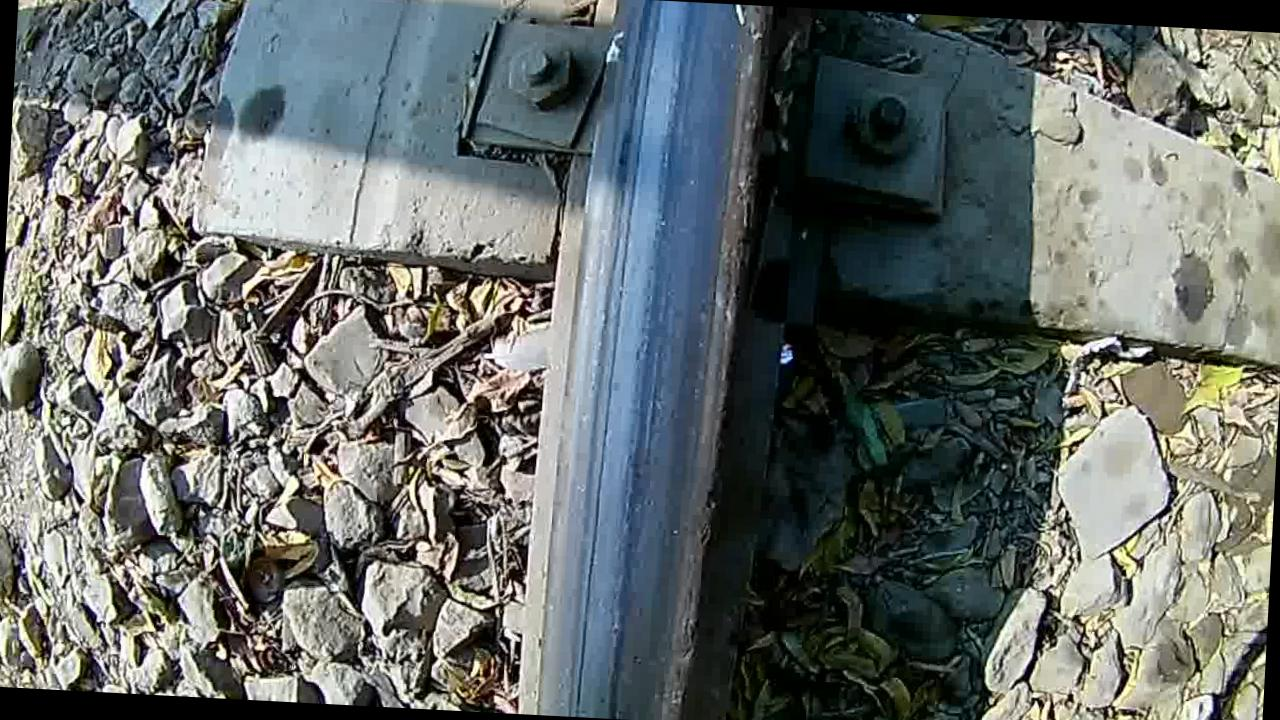clip_missing: (524, 0, 786, 720)
